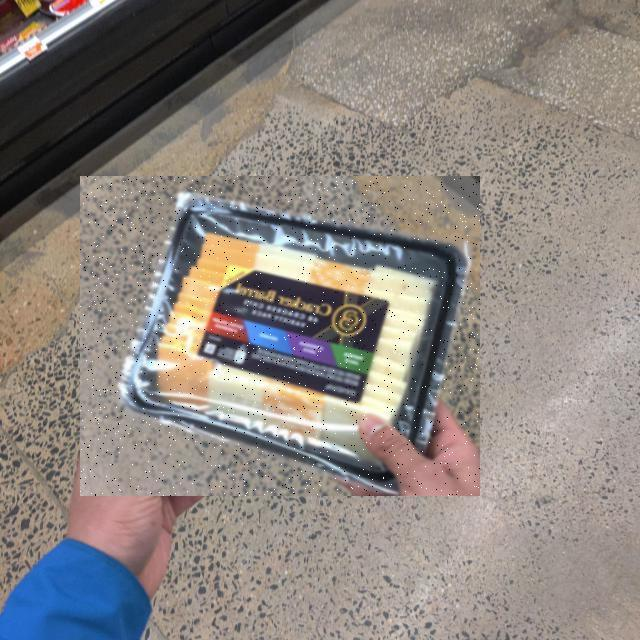Cheese: (80, 177, 480, 497)
